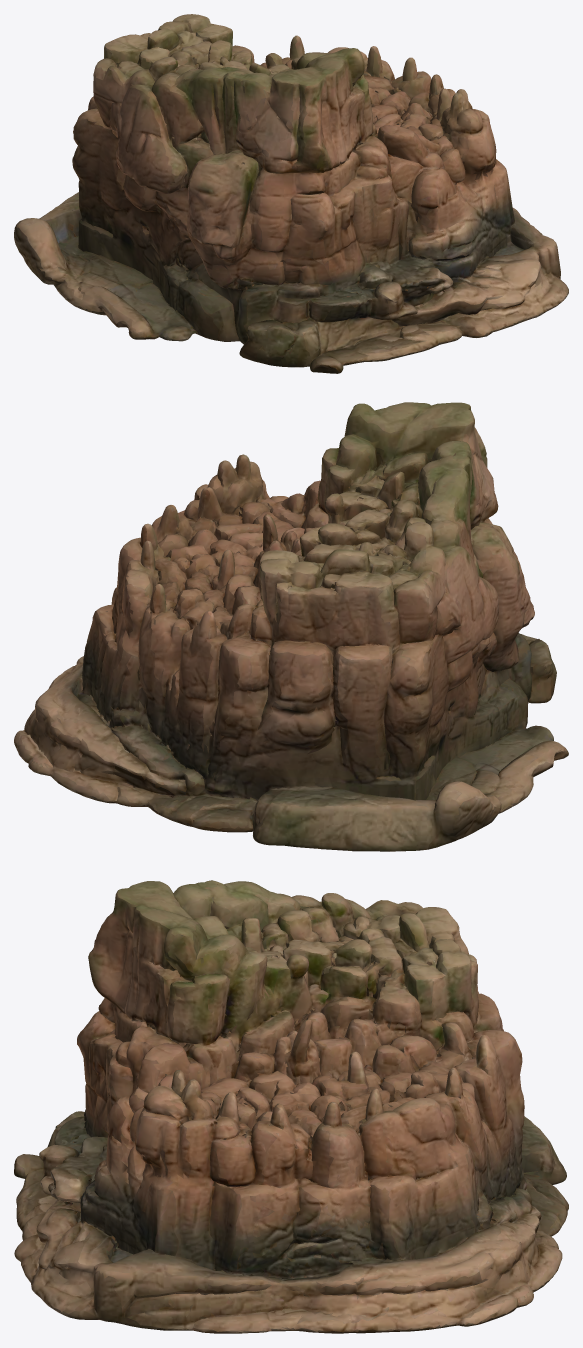
The model's file is willow-stems-v13.glb.
3 renders of one model, top to bottom at view 1: azimuth 30°, elevation 25°; view 2: azimuth 150°, elevation 25°; view 3: azimuth 270°, elevation 25°, orthographic. The views are drawn at different scales.
Parts seen in each view (by area): view 1: geometry_0; view 2: geometry_0; view 3: geometry_0.
Boxes of the visible parts, x1,y1,x2,y2 form: geometry_0: (14, 14, 568, 373); geometry_0: (14, 402, 568, 851); geometry_0: (14, 880, 568, 1333).
Size of the model in its own units: 8 by 4.69 by 8.
Materials: 1 (1 with a texture image).
